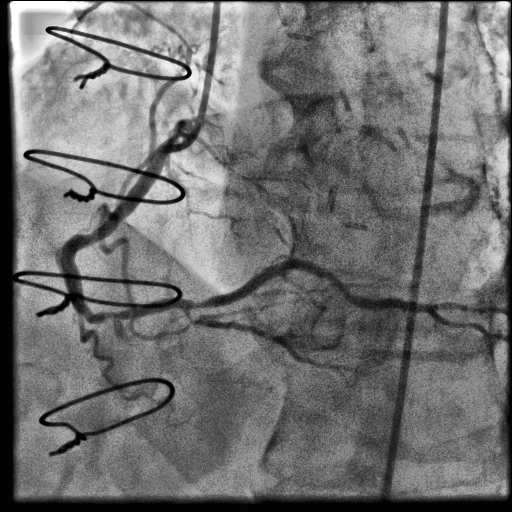pborca: (189, 259, 510, 315)
pda: (183, 308, 353, 369)
rca: (61, 138, 190, 324)
